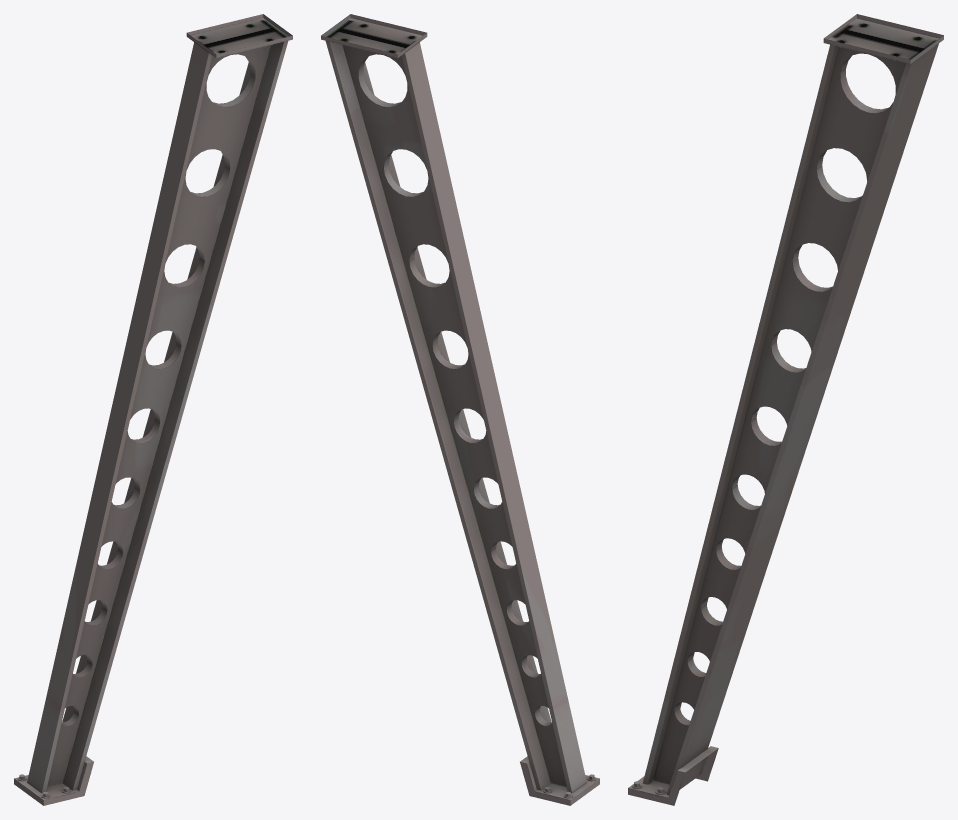
Rendered from props_2fort_spytech_roofbeam01.glb.
The picture shows the model from 3 angles, left to right: view 1: azimuth 30°, elevation 25°; view 2: azimuth 150°, elevation 25°; view 3: azimuth 330°, elevation 25°; orthographic projection. The views are drawn at different scales.
Visible parts, largest first — view 1: models/props_2fort/spytech_roofbeam01; view 2: models/props_2fort/spytech_roofbeam01; view 3: models/props_2fort/spytech_roofbeam01.
Boxes of the visible parts, x1,y1,x2,y2 form: models/props_2fort/spytech_roofbeam01: (14,14,292,805); models/props_2fort/spytech_roofbeam01: (321,14,599,805); models/props_2fort/spytech_roofbeam01: (628,14,943,805).
Size of the model in its own units: 117 by 318 by 24.
Materials: 1 (1 with a texture image).
